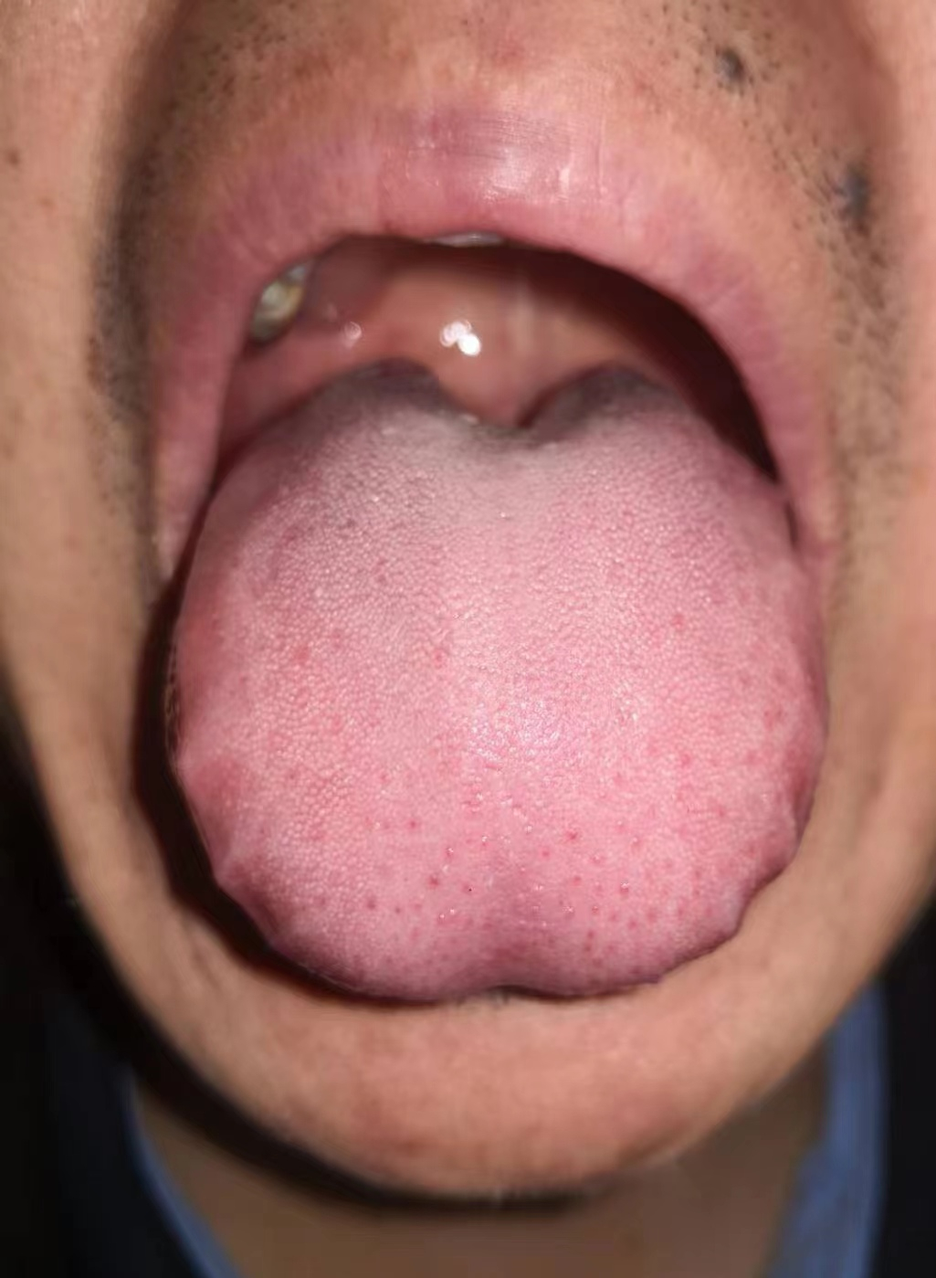baitaishe: (163, 359, 824, 998)
chihenshe: (164, 734, 255, 882), (204, 840, 297, 960)
hongdianshe: (425, 867, 439, 891), (405, 815, 422, 831)
pangdashe: (162, 359, 823, 998)
xinfeiao: (349, 360, 654, 469)
